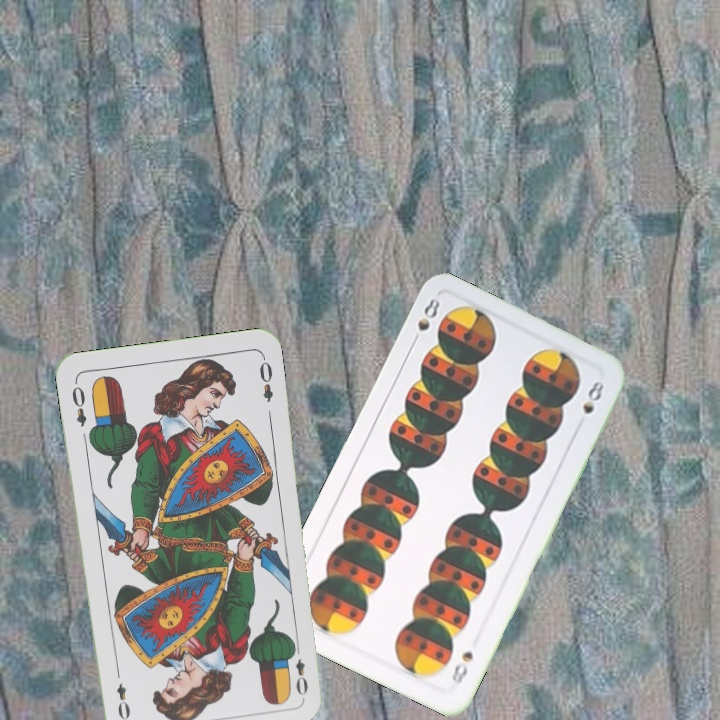EO: (287, 640, 311, 698), (67, 382, 89, 429)
S8: (407, 294, 443, 349), (447, 647, 476, 689)
